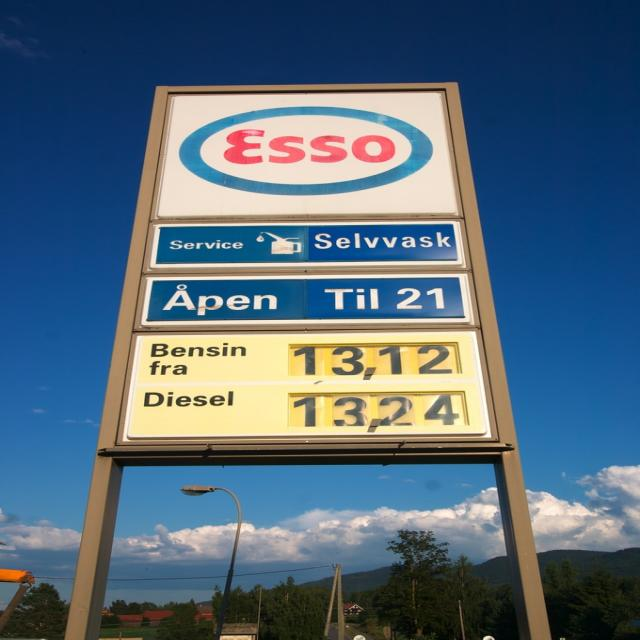esso: (170, 103, 437, 200)
